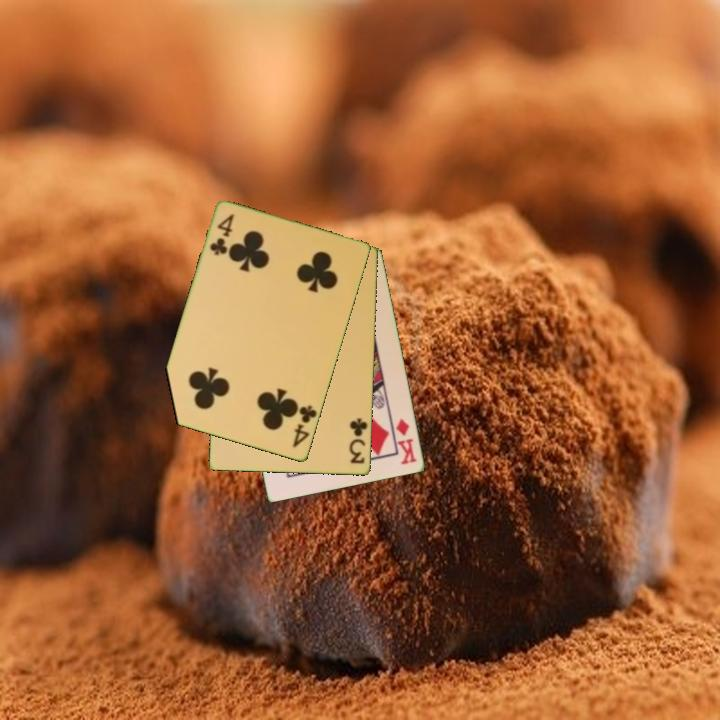3c: (346, 415, 371, 467)
4c: (289, 402, 320, 451), (206, 211, 237, 259)
Kd: (393, 415, 420, 468)
